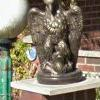Statue: (22, 8, 93, 79)
